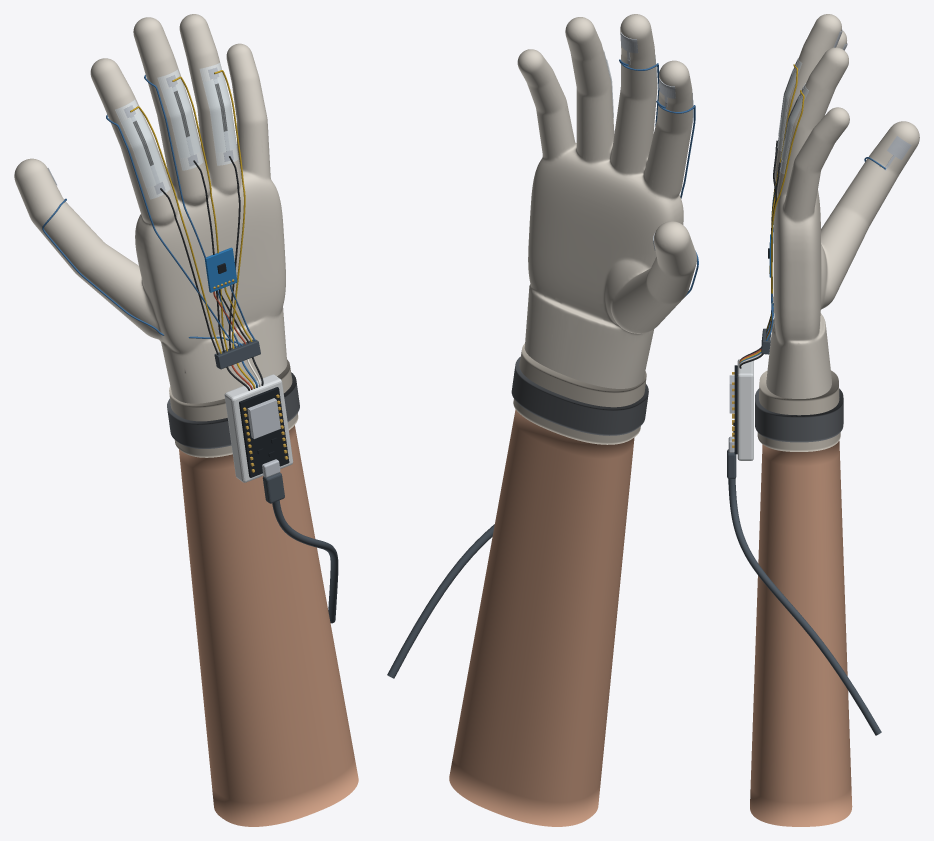
File: glove.glb
3 renders of one model, left to right at view 1: azimuth 30°, elevation 25°; view 2: azimuth 150°, elevation 25°; view 3: azimuth 270°, elevation 25°, orthographic. The views are drawn at different scales.
Visible parts, largest first — view 1: forearm, glove, tray, strap, devboard, cuff, index_tpu, middle_tpu, ring_tpu, index_enc, middle_enc, ring_enc (+6 smaller); view 2: forearm, glove, strap, cuff, usb_cable_m; view 3: forearm, glove, strap, cuff, usb_cable_m, tray, ring_tpu, middle_tpu, w5_m, ring_enc.
Part boxes in pixels (left/top/right/bottom): forearm: left=179, top=425, right=358, bottom=826; glove: left=14, top=14, right=287, bottom=403; tray: left=224, top=374, right=293, bottom=482; strap: left=167, top=372, right=299, bottom=448; devboard: left=239, top=387, right=289, bottom=477; cuff: left=169, top=359, right=298, bottom=457; index_tpu: left=115, top=99, right=170, bottom=199; middle_tpu: left=157, top=69, right=203, bottom=170; ring_tpu: left=199, top=63, right=238, bottom=165; index_enc: left=121, top=112, right=166, bottom=187; middle_enc: left=162, top=82, right=200, bottom=158; ring_enc: left=203, top=76, right=236, bottom=152; forearm: left=449, top=409, right=634, bottom=826; glove: left=517, top=14, right=696, bottom=388; strap: left=511, top=357, right=648, bottom=435; cuff: left=513, top=343, right=646, bottom=444; usb_cable_m: left=387, top=524, right=494, bottom=678; forearm: left=750, top=441, right=852, bottom=826; glove: left=766, top=14, right=919, bottom=398; strap: left=755, top=388, right=843, bottom=442; cuff: left=757, top=370, right=840, bottom=451; usb_cable_m: left=728, top=478, right=881, bottom=735; tray: left=737, top=359, right=753, bottom=460; ring_tpu: left=780, top=83, right=808, bottom=173; middle_tpu: left=777, top=57, right=802, bottom=150; w5_m: left=766, top=90, right=804, bottom=333; ring_enc: left=781, top=94, right=802, bottom=161.
Size of the model in its own units: 17.85 by 44.96 by 10.55.
